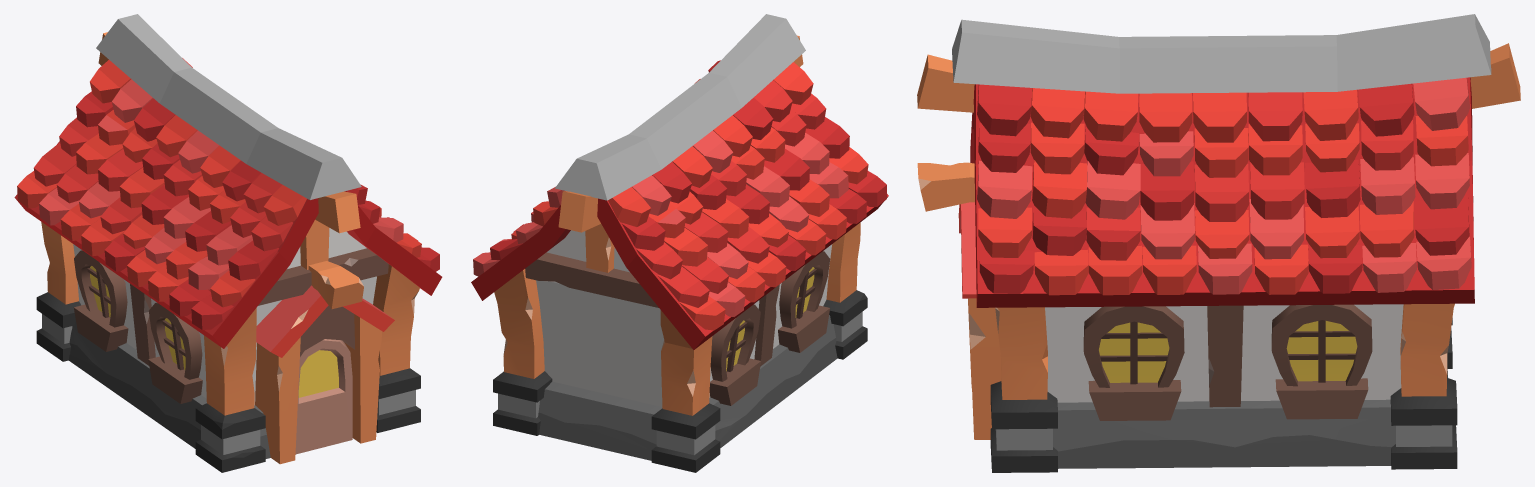
File: n4_house_003_lev4.009.glb
The picture shows the model from 3 angles, left to right: view 1: azimuth 30°, elevation 25°; view 2: azimuth 150°, elevation 25°; view 3: azimuth 270°, elevation 25°; orthographic projection. The views are drawn at different scales.
Visible parts, largest first — view 1: n4_house_003_lev4.009; view 2: n4_house_003_lev4.009; view 3: n4_house_003_lev4.009.
Part boxes in pixels (x1,y1,x2,y2): n4_house_003_lev4.009: [14, 14, 442, 472]; n4_house_003_lev4.009: [471, 14, 888, 472]; n4_house_003_lev4.009: [917, 14, 1520, 472].
Bounding box in the file's own units: 5.18 × 5.91 × 8.41.
1 material, 1 textured.
